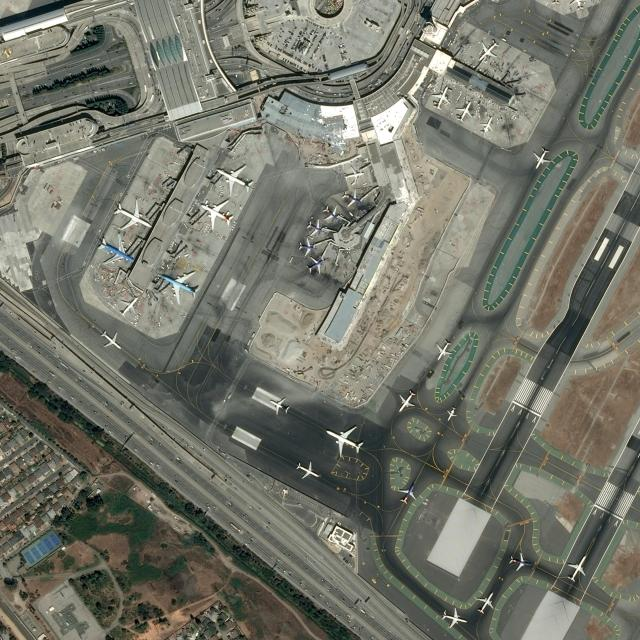1: (569, 1, 588, 10)
aircraft: (159, 270, 199, 304), (216, 162, 253, 196), (325, 425, 363, 457), (96, 233, 134, 264), (114, 200, 151, 230), (199, 198, 233, 230), (441, 606, 466, 629), (432, 84, 451, 110), (567, 555, 586, 581), (476, 590, 495, 614), (100, 330, 122, 350), (455, 99, 473, 123), (508, 552, 532, 570), (478, 39, 498, 60), (532, 147, 551, 168), (398, 390, 416, 412), (296, 461, 318, 479), (398, 482, 416, 504), (120, 295, 138, 317), (340, 190, 362, 207), (344, 166, 364, 184), (297, 237, 317, 255), (305, 256, 325, 274), (436, 338, 452, 360), (306, 218, 325, 236), (270, 398, 290, 414), (322, 204, 338, 222), (480, 116, 494, 134), (446, 406, 456, 421)
